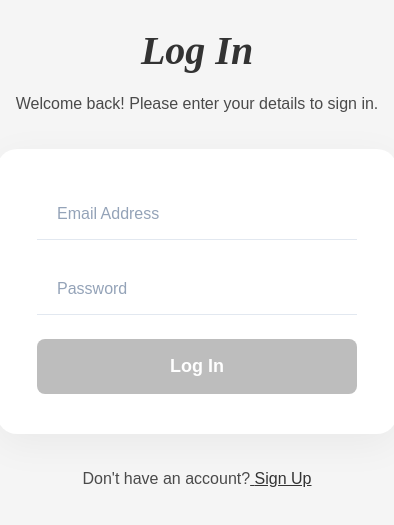
Test case: Login › shows an error message and toast on invalid credentials
In the field labelled "Email Address": (197, 214) [37,188,357,240], type "user@example.com"
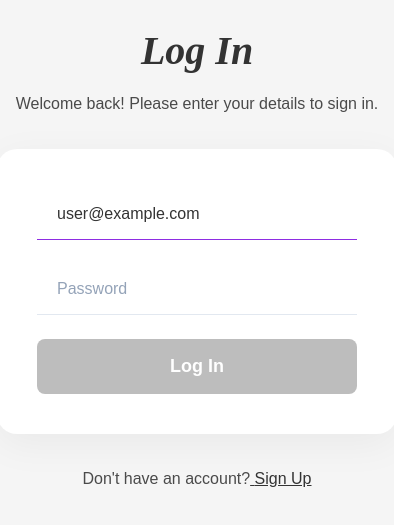
In the password field labelled "Password": (197, 289) [37,264,357,314], type "wrongpass"
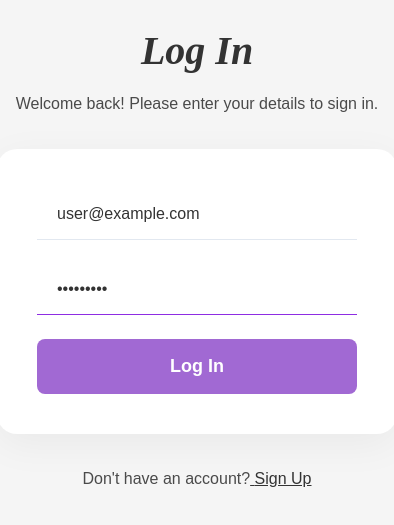
Click the button "Log In": click(197, 366) [37,338,357,394]
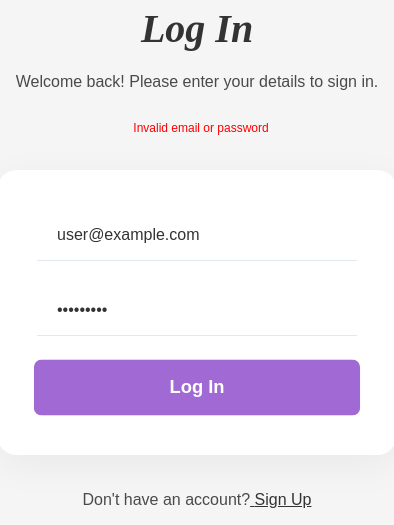
Expected: the text "Invalid email or password" is shown, [133,121,269,135]
